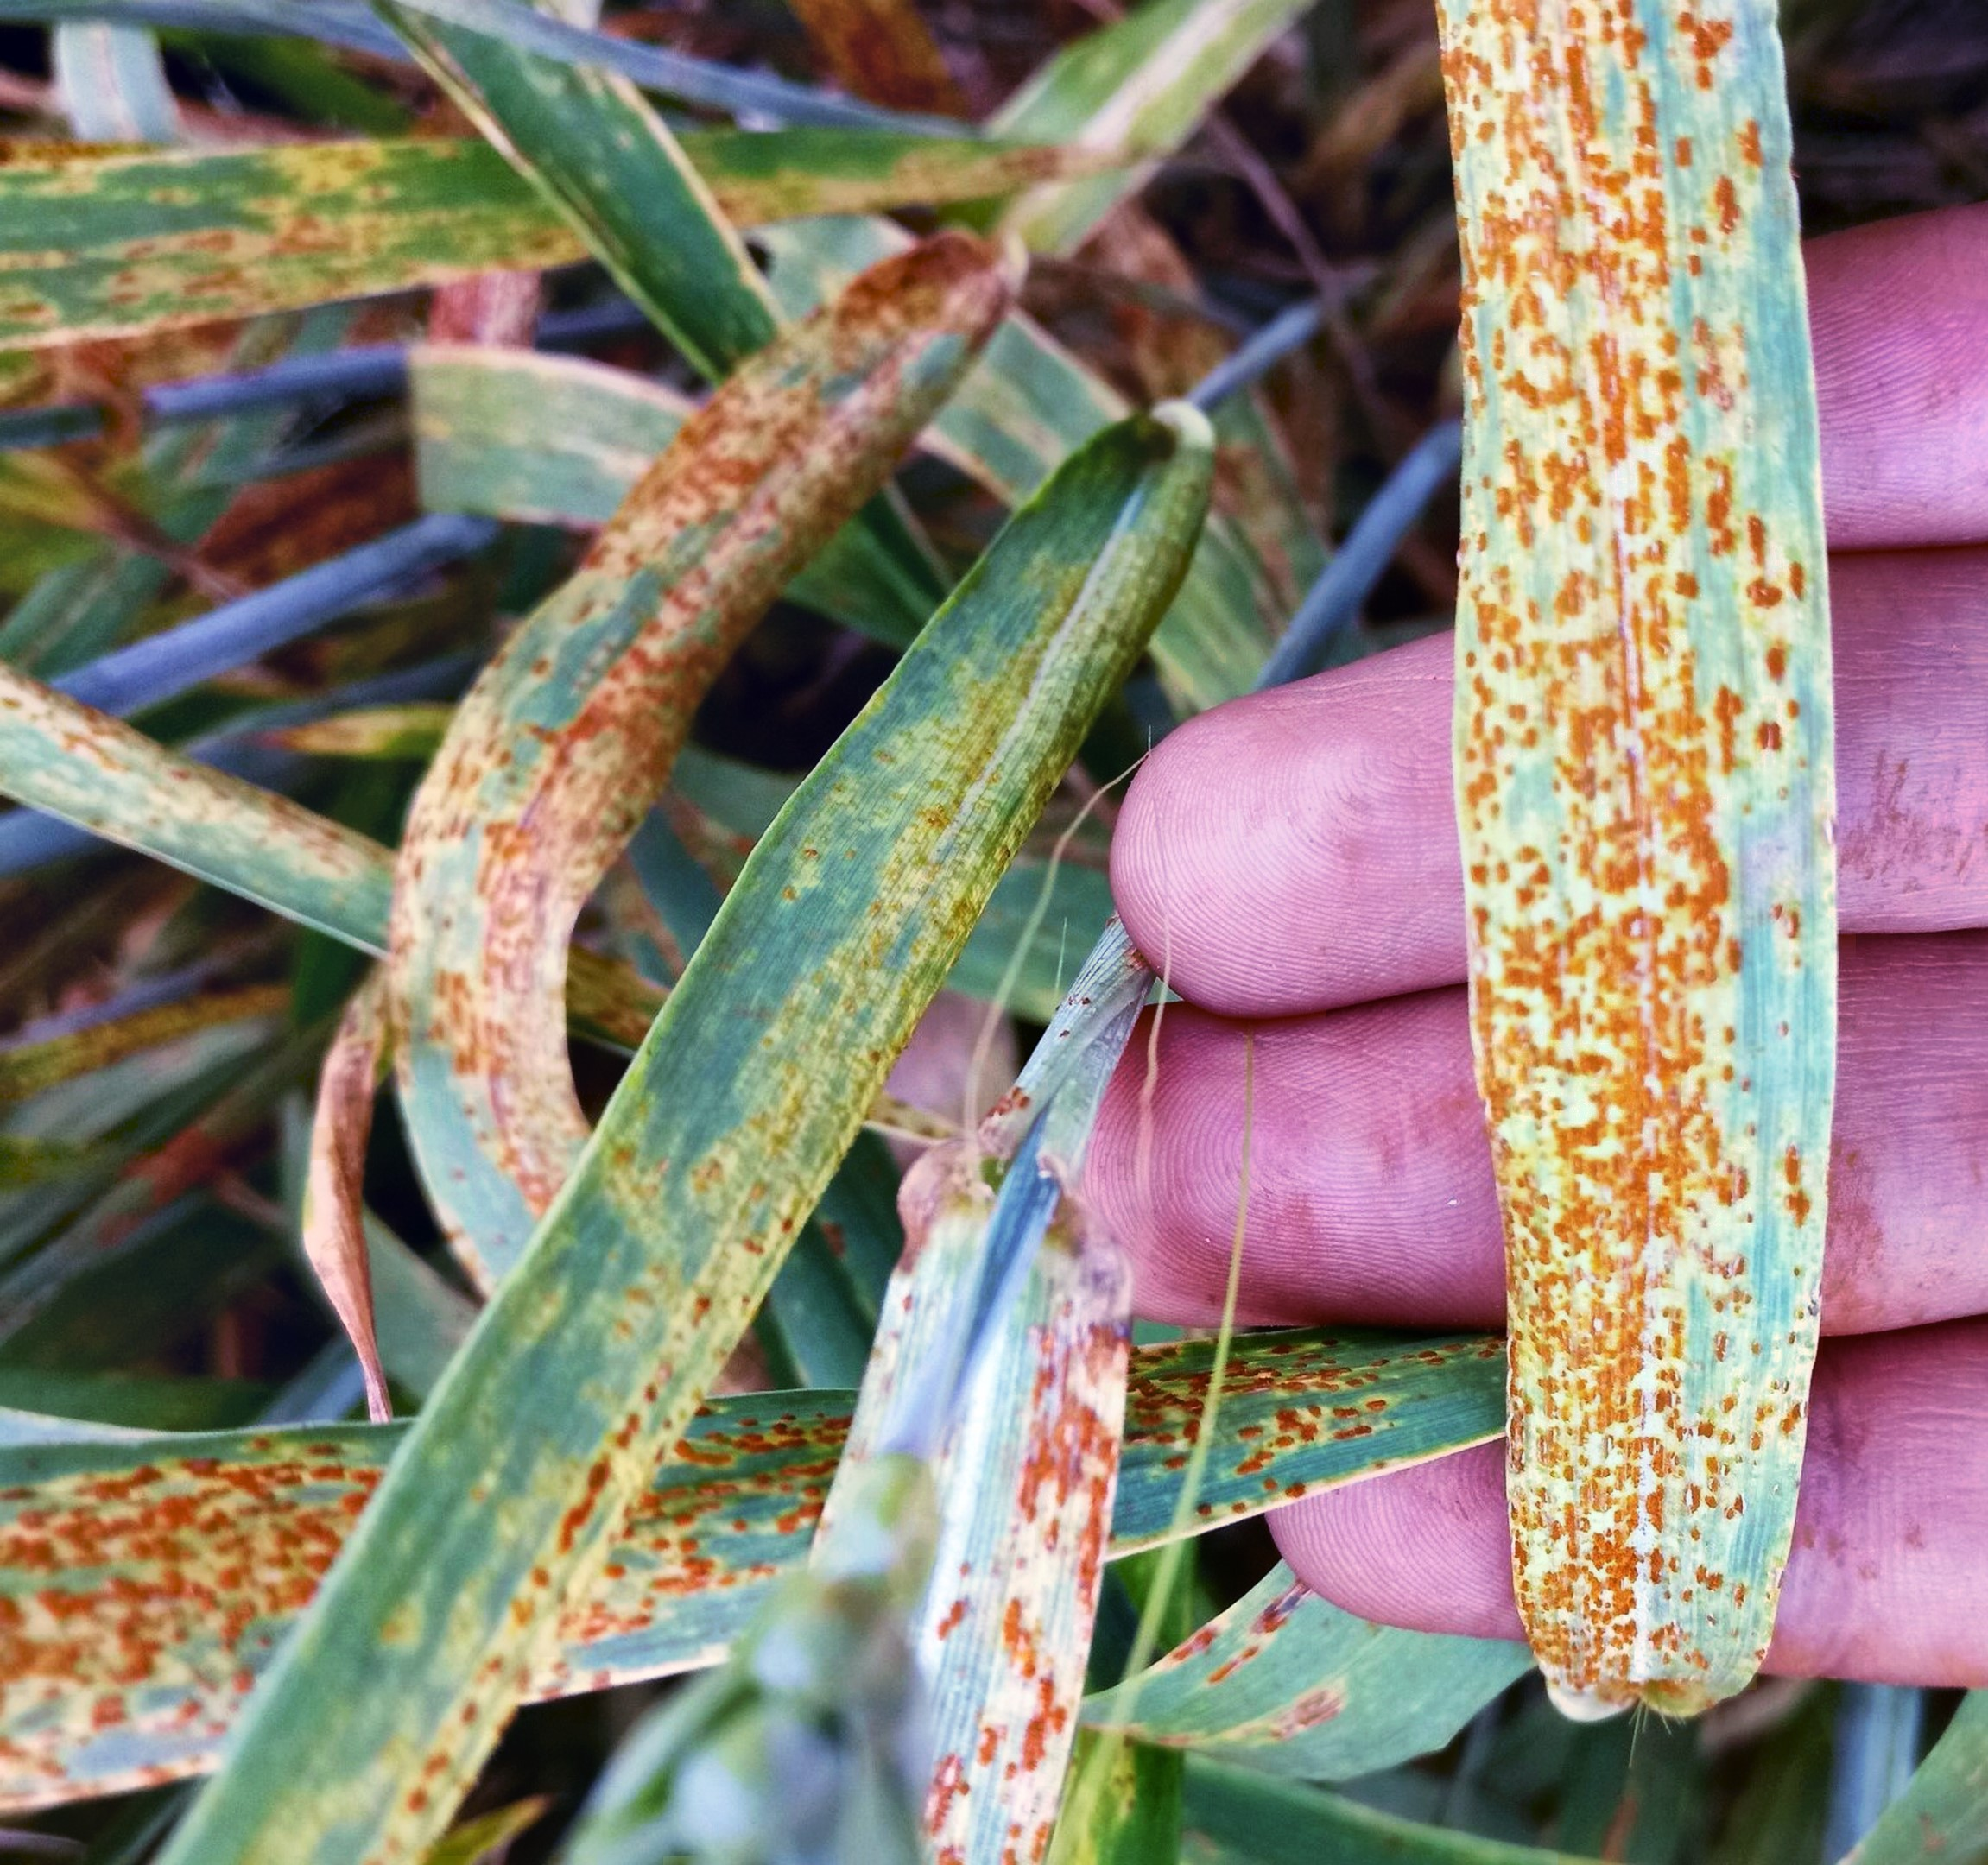Leaf Rust: (1443, 81, 1876, 1683)
